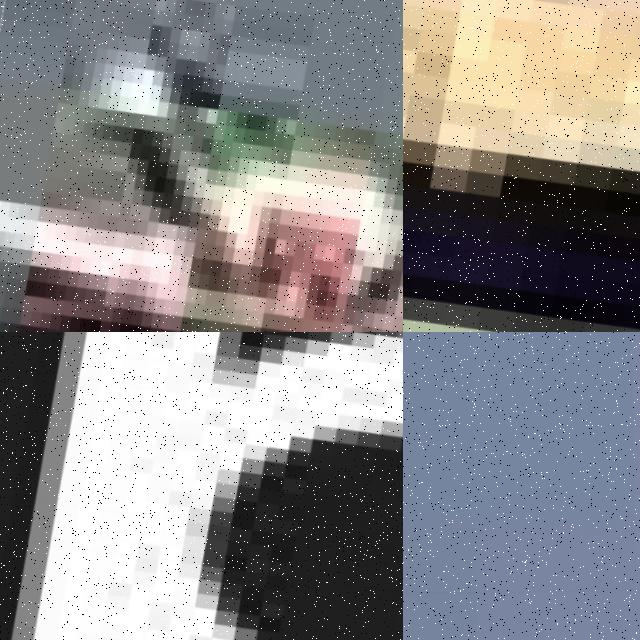drone: (0, 0, 403, 332), (0, 332, 403, 640), (403, 0, 640, 332)
